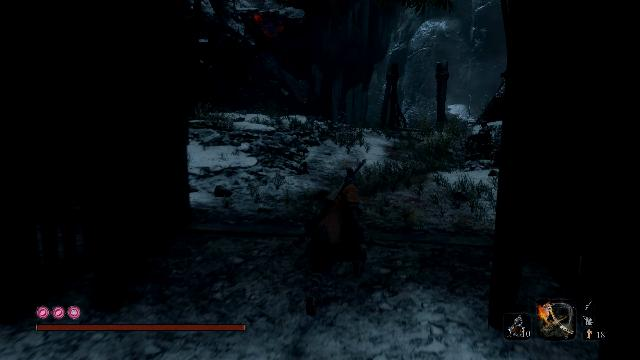sk: (280, 159, 376, 317)
